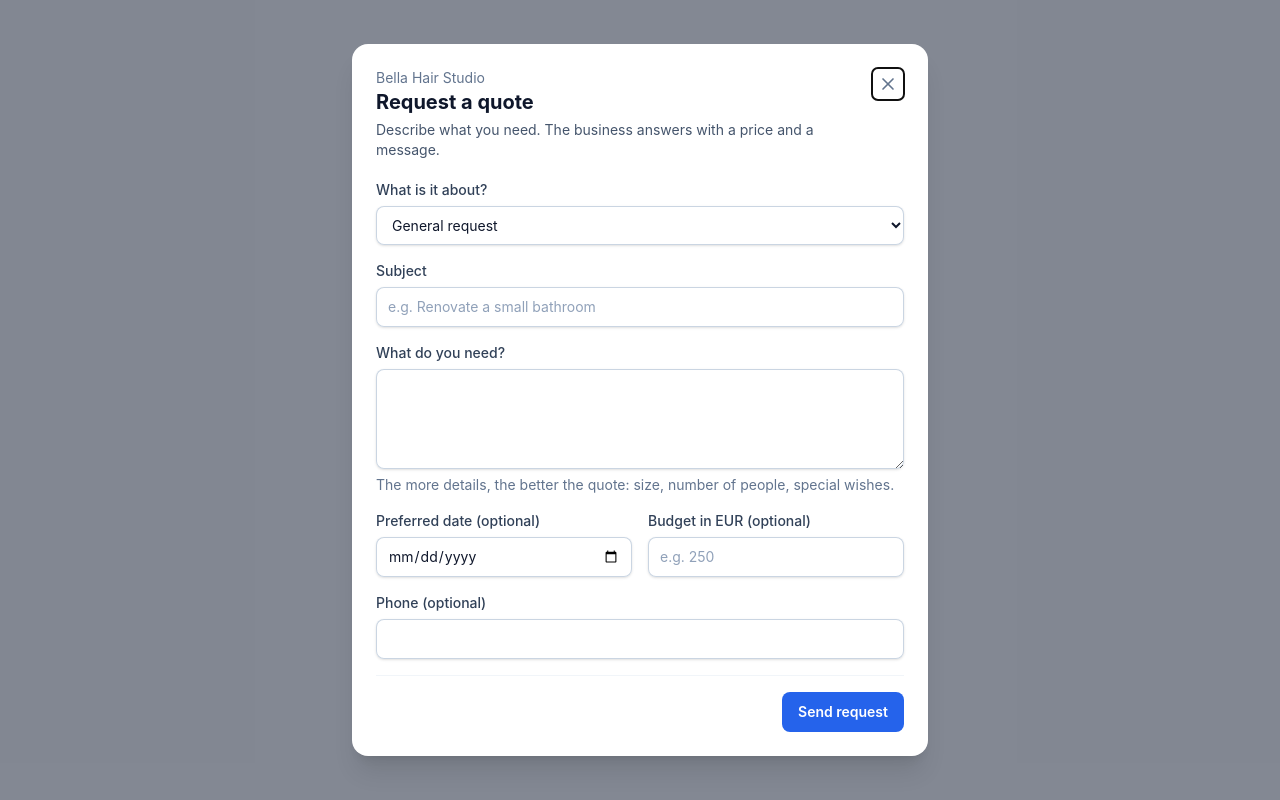
Test: QuoteRequestPanel › checks the budget before sending
This screenshot has width=1280, height=800.
Type "about 200" into the field labelled "Budget in EUR (optional)" at (776, 557), box [648,537,904,577]
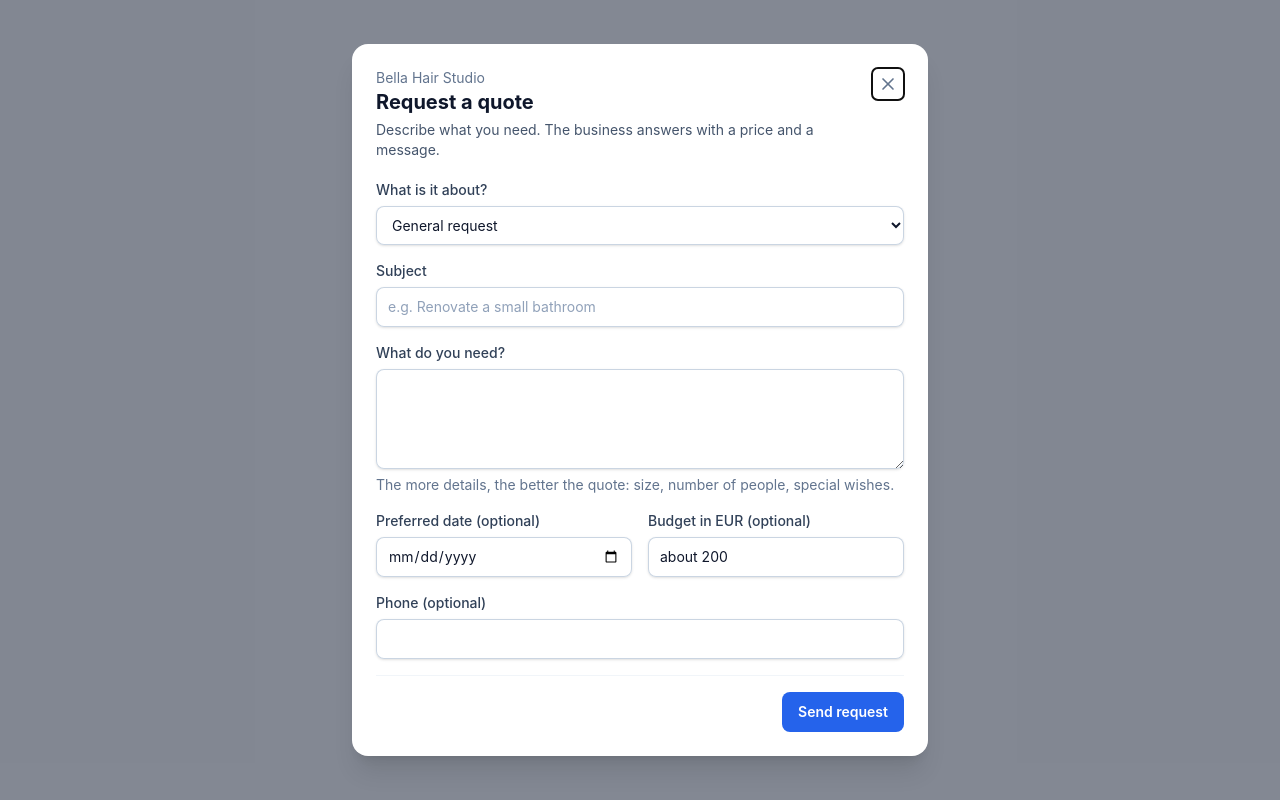
Click the button "Send request" at (843, 712), box [782,692,904,732]
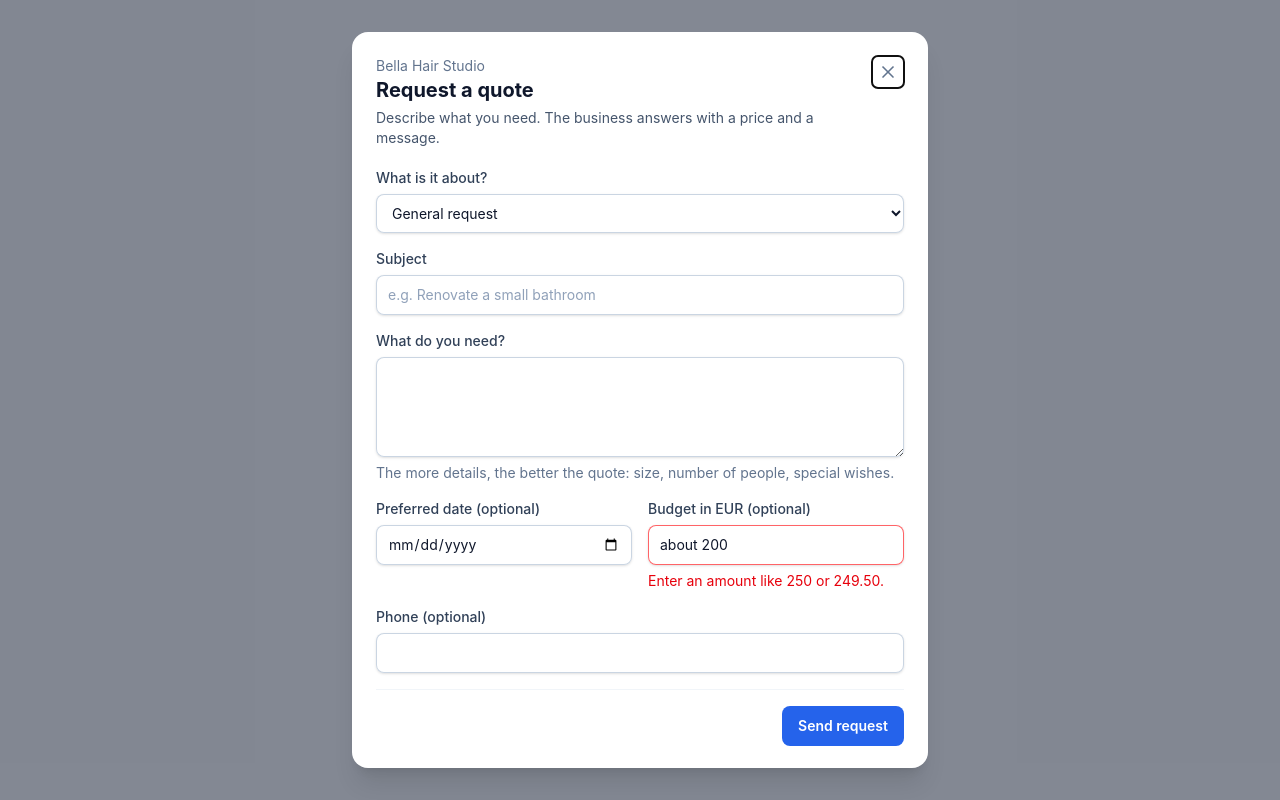
Check: the text "Enter an amount like 250 or 249.50." is shown, box [648,571,904,591]
